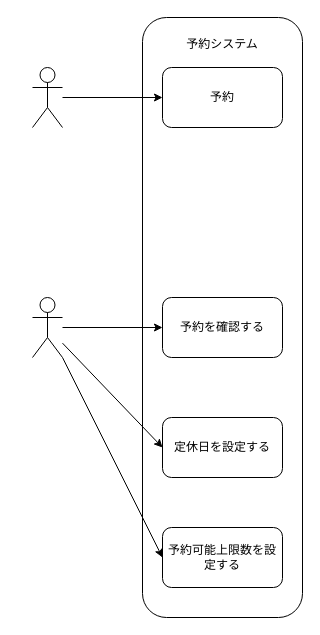
Image size: 320x635. Some labels were removed from this diagram. The centre of each missing label's shape, as x and y in pixels:
予約希望者: the point at 47,97
管理者: the point at 47,327
